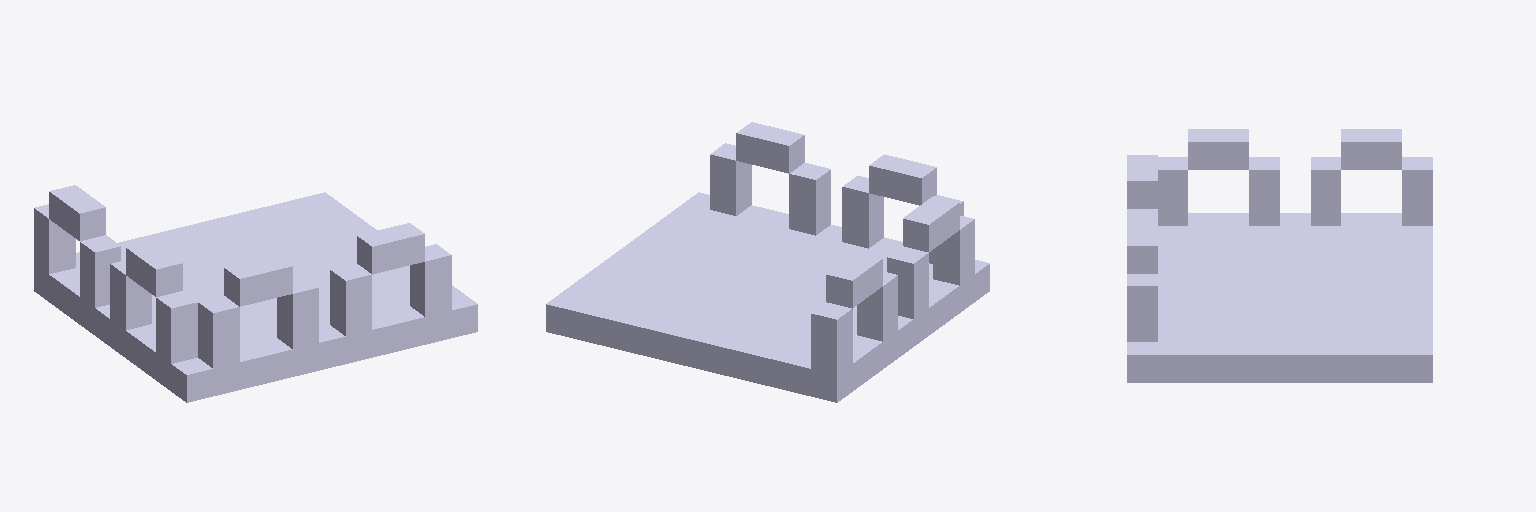
Rendered from Roof2.obj.
3 views of the same model, side by side, from view 1: azimuth 30°, elevation 25°; view 2: azimuth 150°, elevation 25°; view 3: azimuth 270°, elevation 25° (orthographic).
Parts seen in each view (by area): view 1: BuildingPieces.003; view 2: BuildingPieces.003; view 3: BuildingPieces.003.
Part boxes in pixels (x1,y1,x2,y2): BuildingPieces.003: (34,185,477,402); BuildingPieces.003: (546,122,989,402); BuildingPieces.003: (1127,129,1432,382).
Size of the model in its own units: 1.1 by 0.4 by 1.